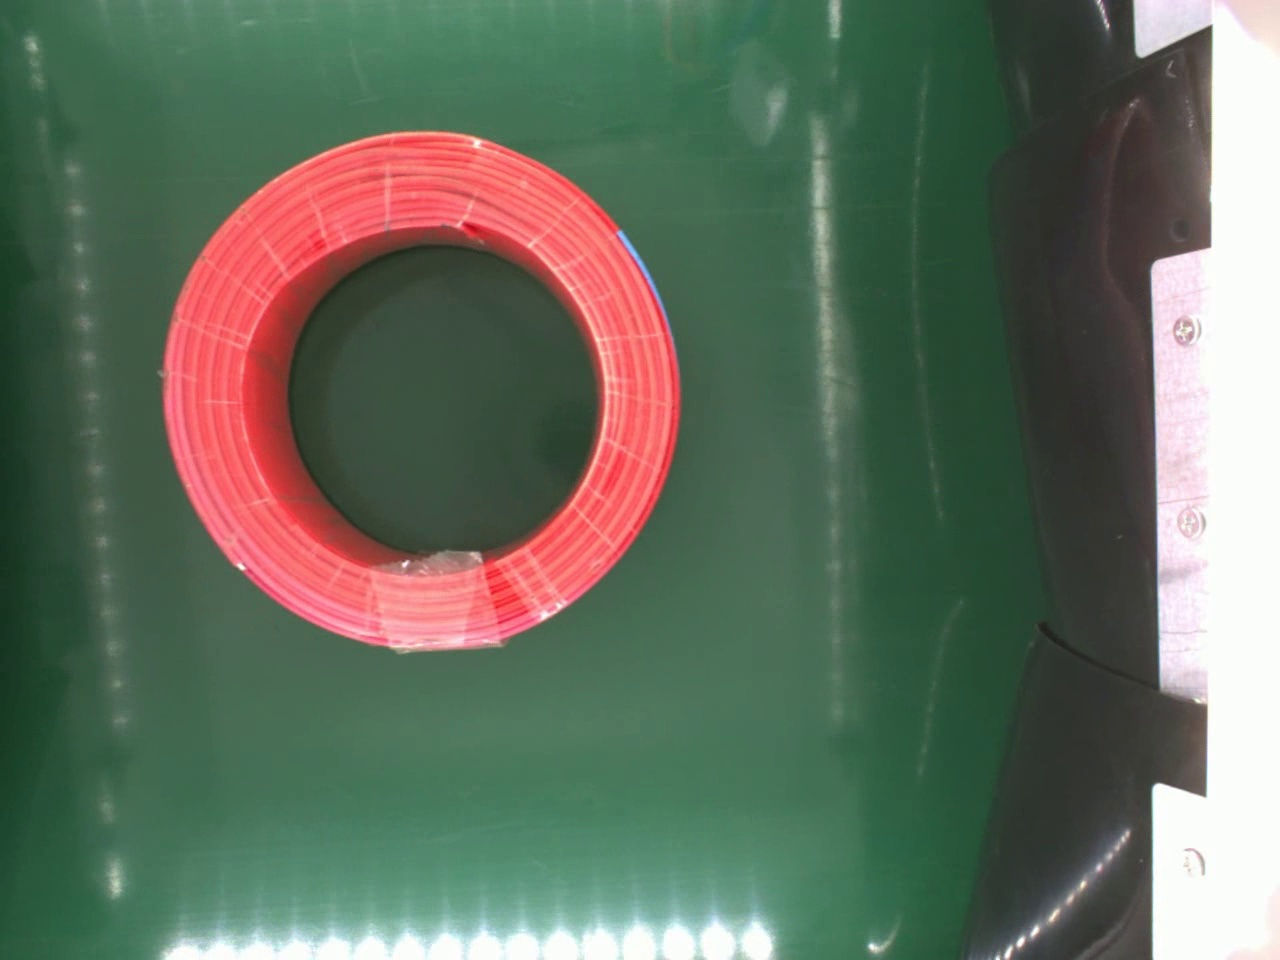red: (165, 127, 683, 655)
